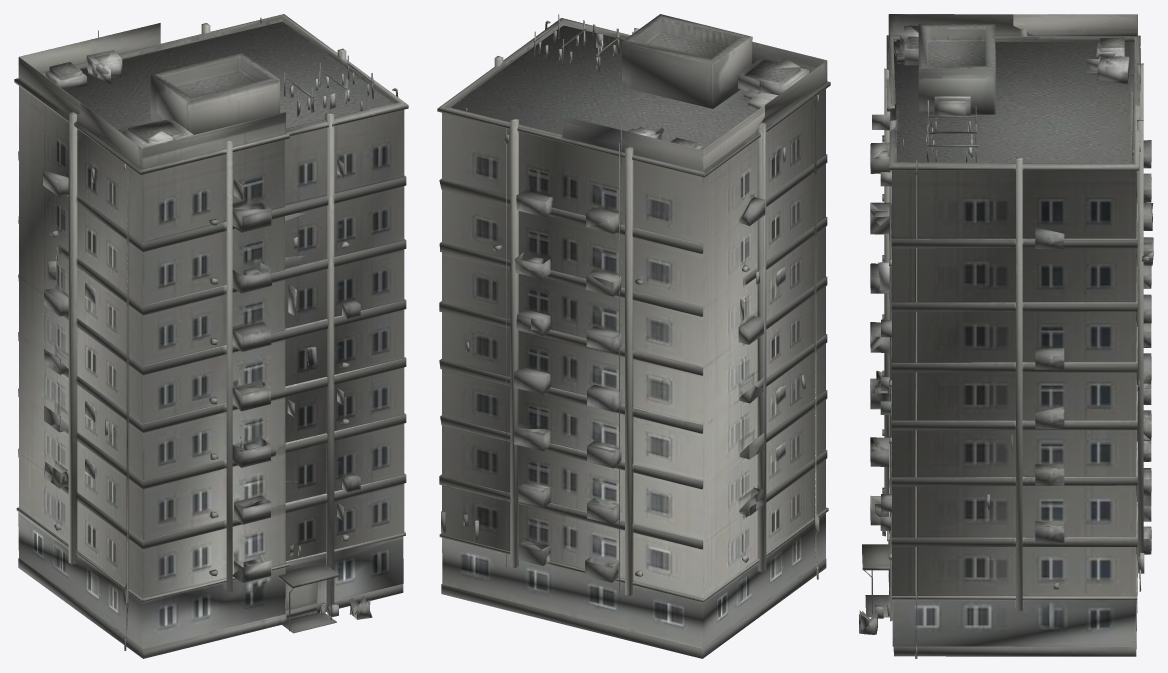
File: khrushchevka.glb
3 views of the same model, side by side, from view 1: azimuth 30°, elevation 25°; view 2: azimuth 150°, elevation 25°; view 3: azimuth 270°, elevation 25° (orthographic).
Size of the model in its own units: 0.5362 by 0.9526 by 0.4766.
Materials: 1 (1 with a texture image).
